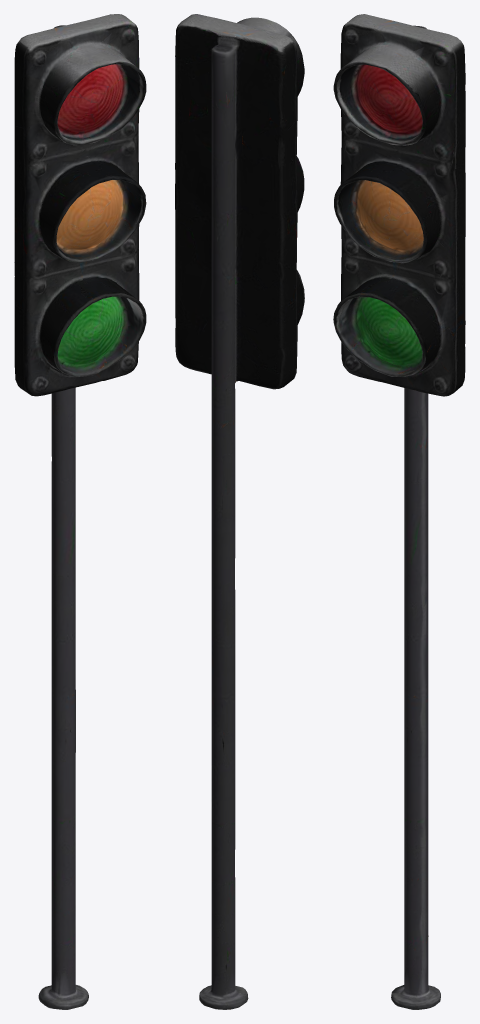
Rendered from traffic_light.glb.
3 renders of one model, left to right at view 1: azimuth 30°, elevation 25°; view 2: azimuth 150°, elevation 25°; view 3: azimuth 330°, elevation 25°, orthographic.
Size of the model in its own units: 0.2319 by 1.9 by 0.1941.
1 material, 1 textured.
